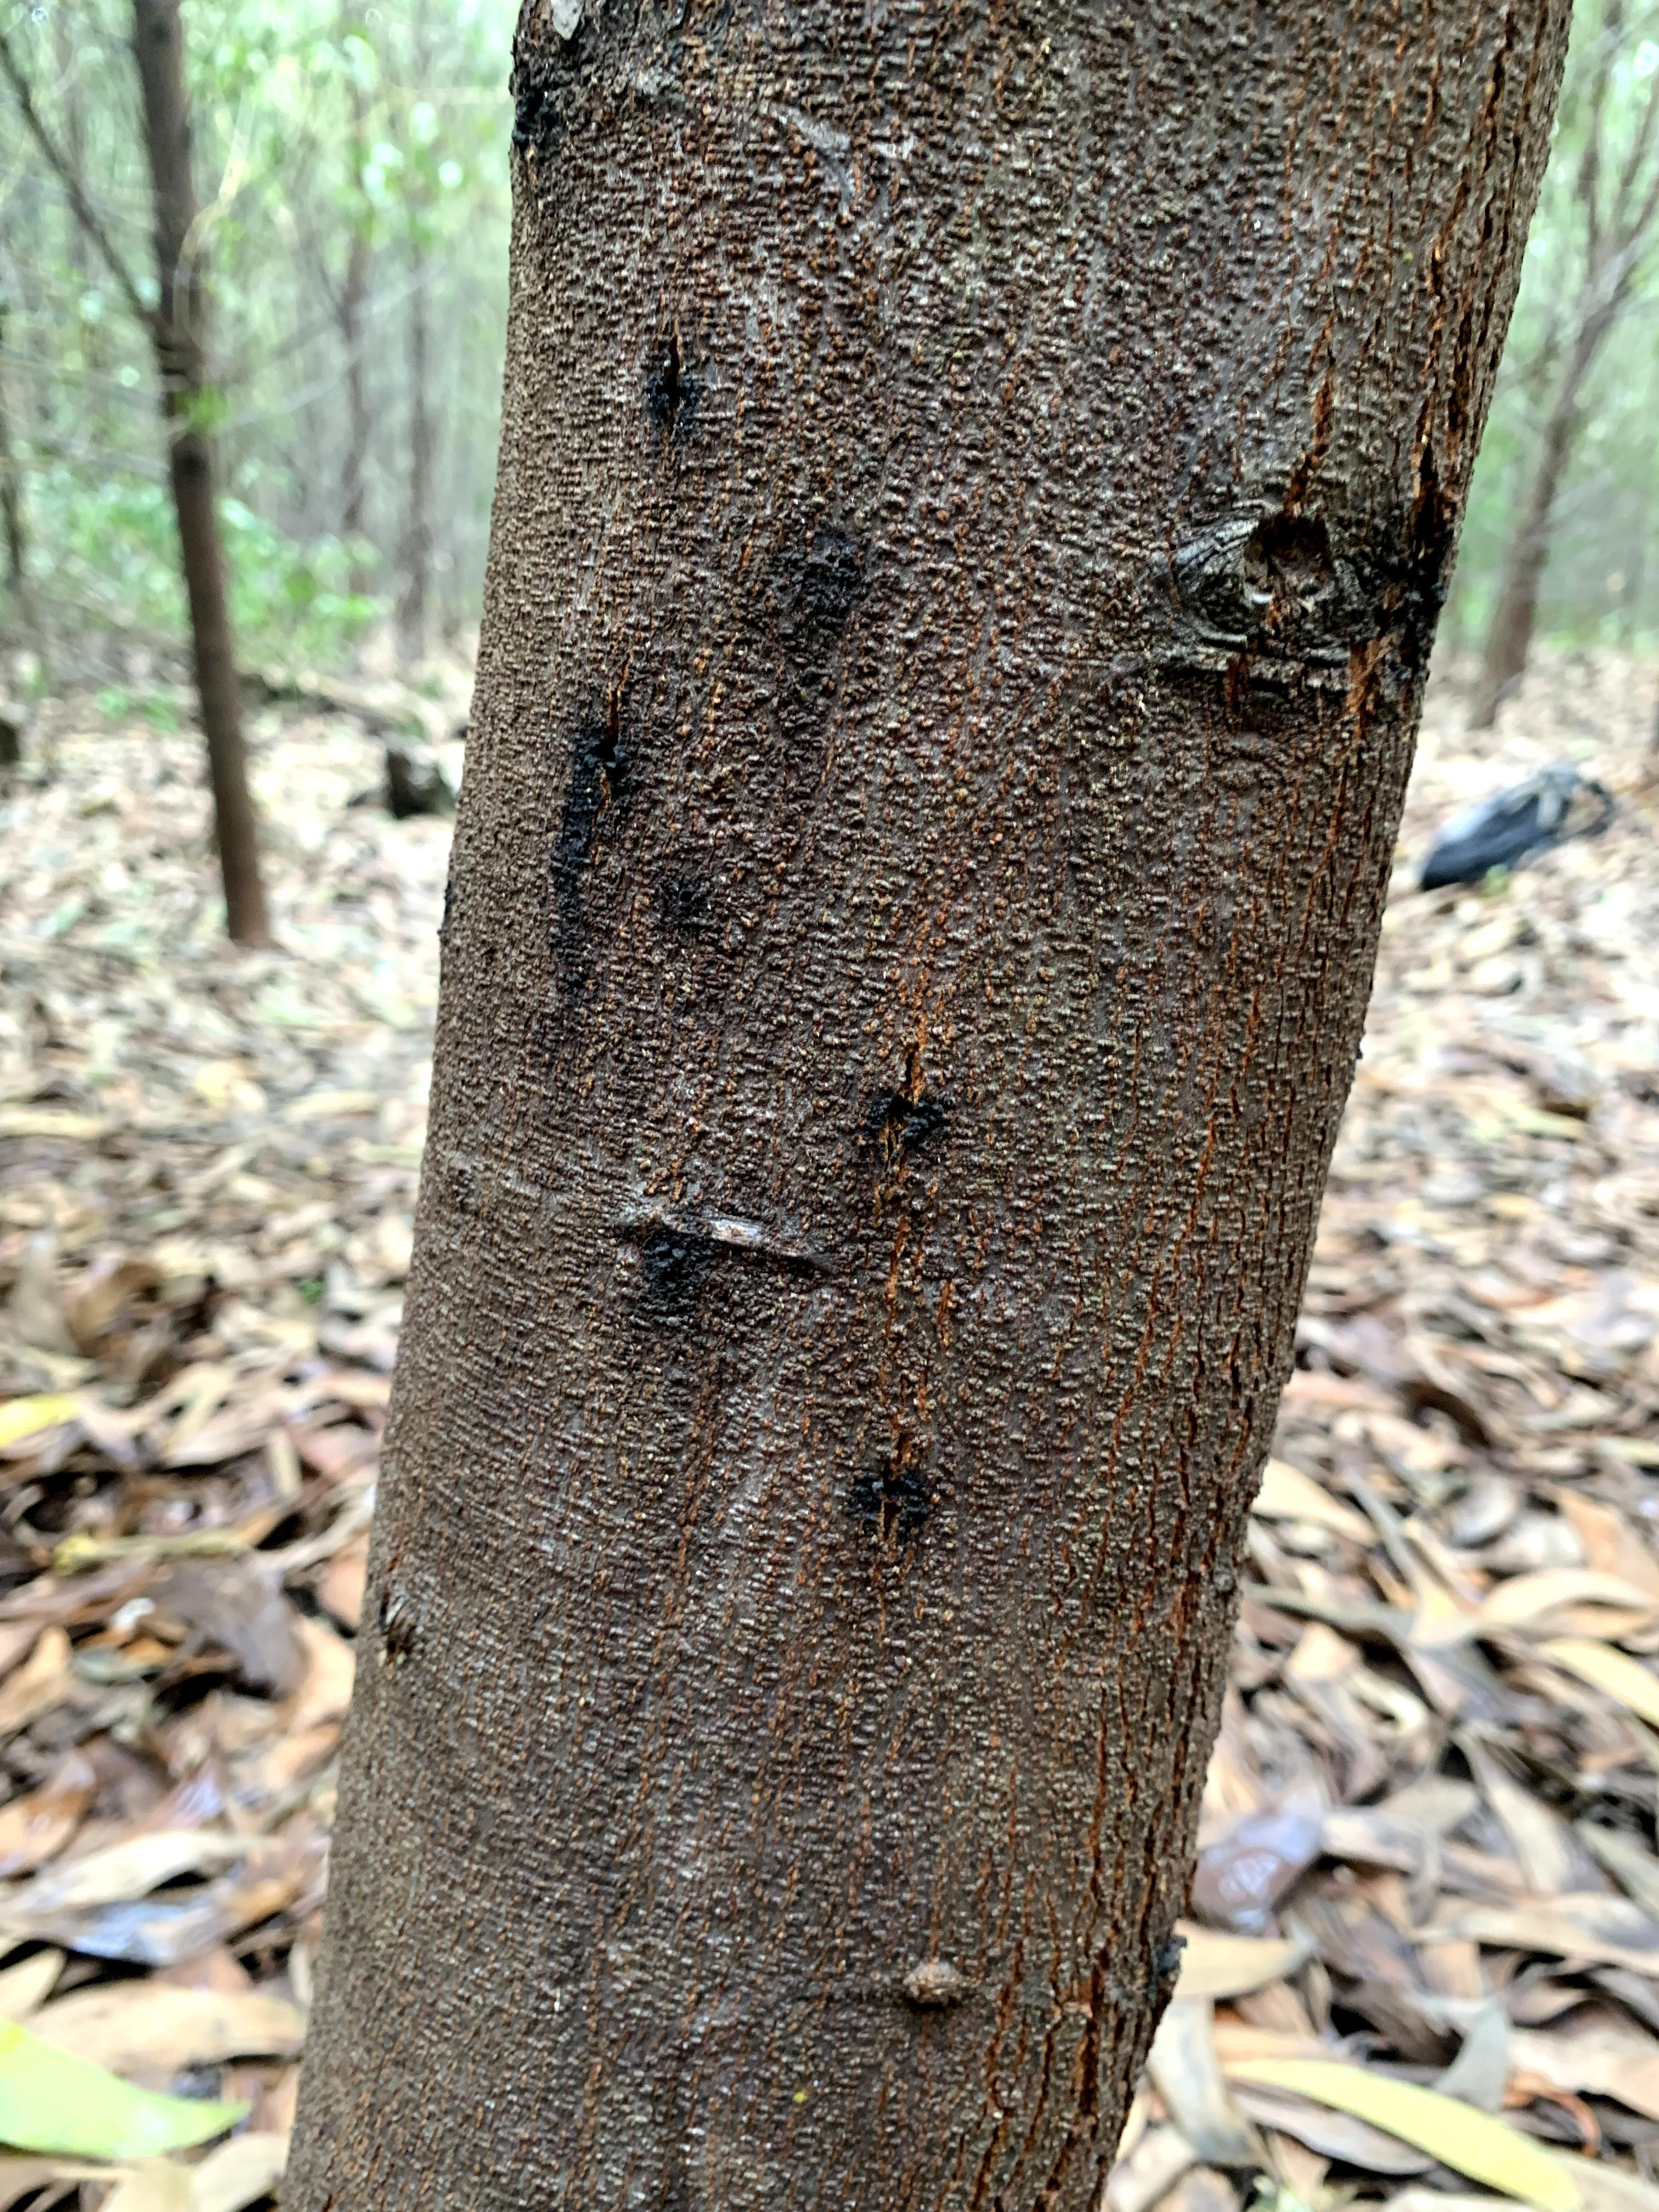Stem Borer: (831, 1022, 993, 1193), (610, 307, 739, 482), (836, 1430, 962, 1604), (559, 651, 667, 840), (617, 1170, 730, 1327)
